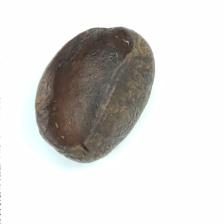NG: (39, 62, 111, 154), (71, 27, 136, 85)
